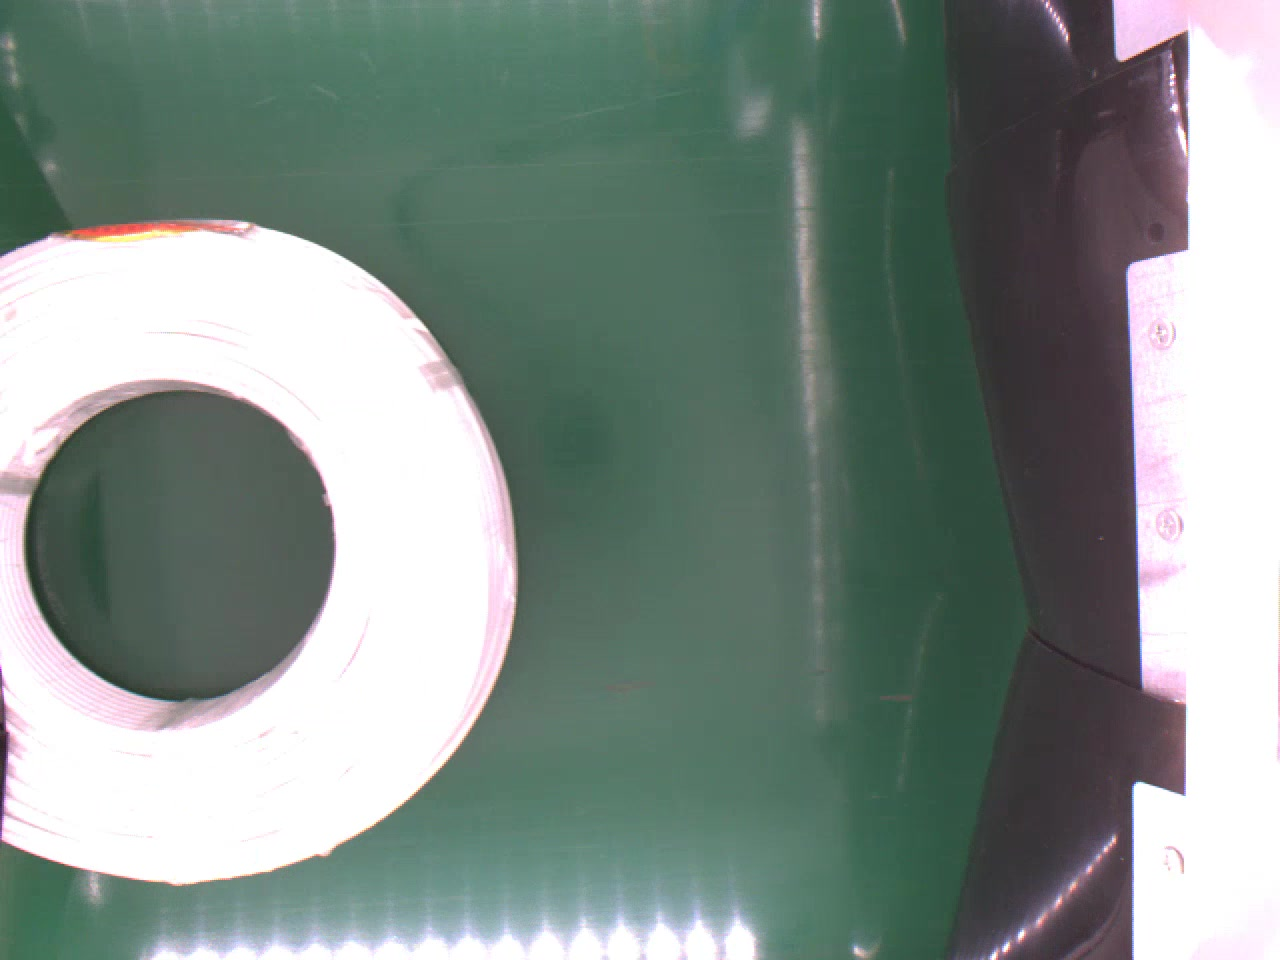white: (0, 209, 517, 883)
